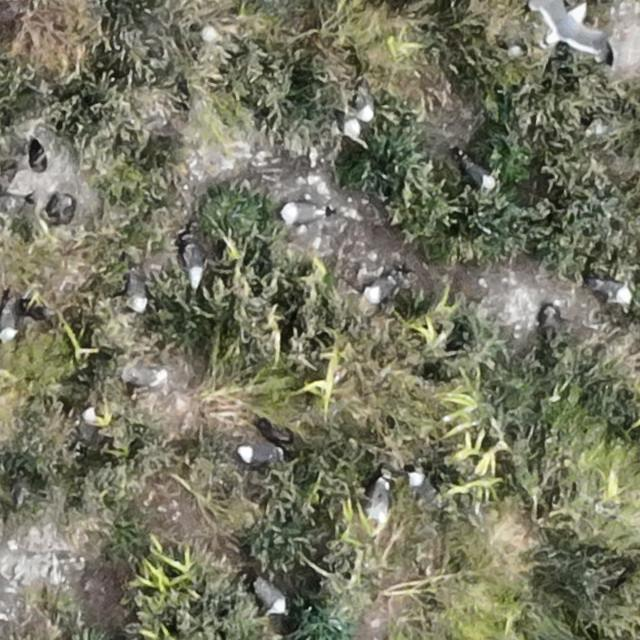F: (536, 0, 604, 53)
umineko: (406, 472, 448, 510), (181, 232, 206, 288), (368, 474, 392, 532), (125, 266, 149, 312), (200, 27, 239, 52), (259, 581, 287, 612), (592, 281, 630, 303), (364, 278, 395, 304), (121, 369, 168, 386), (1, 300, 19, 344), (464, 160, 493, 187), (239, 444, 277, 463), (284, 202, 320, 222), (80, 408, 96, 442), (358, 90, 376, 120)
